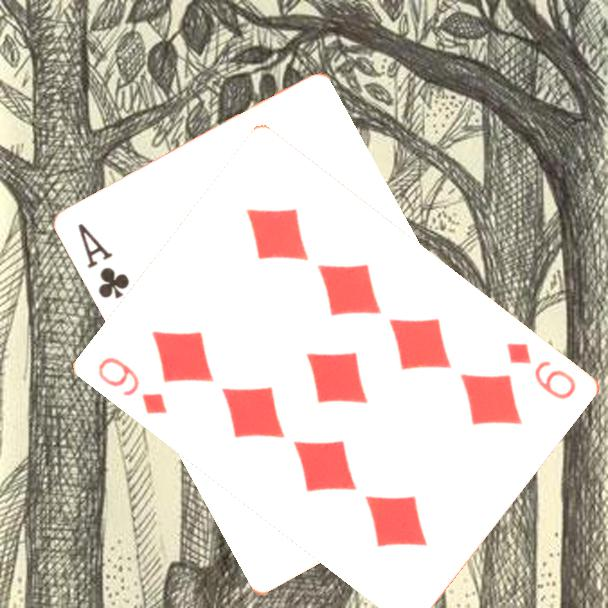c01: (75, 220, 133, 302)
d09: (503, 338, 580, 403), (95, 353, 171, 418)
